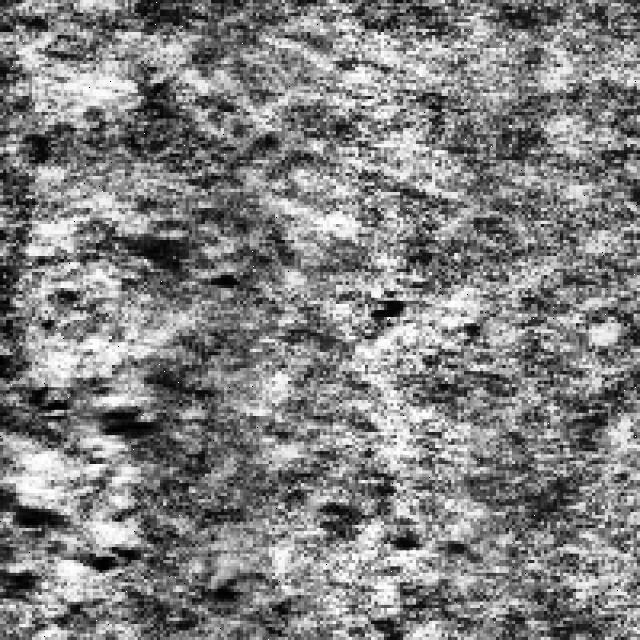Crazing: (3, 358, 176, 612)
